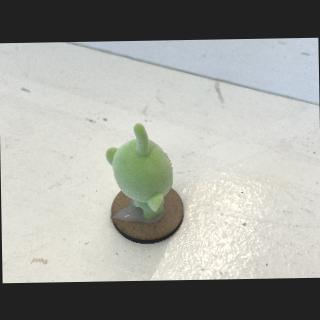teletubby: (106, 123, 173, 219)
